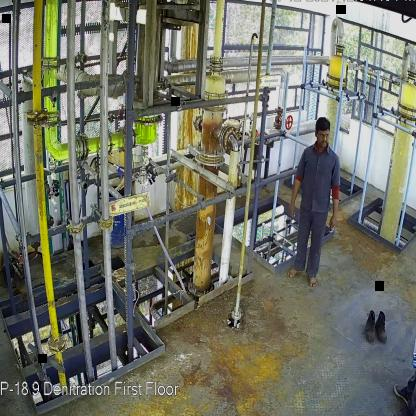no_shoes: (285, 267, 303, 278), (306, 275, 317, 290)
shoes: (364, 309, 379, 343), (376, 311, 389, 342)
